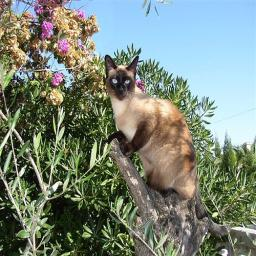catnose: (116, 85, 125, 95)
